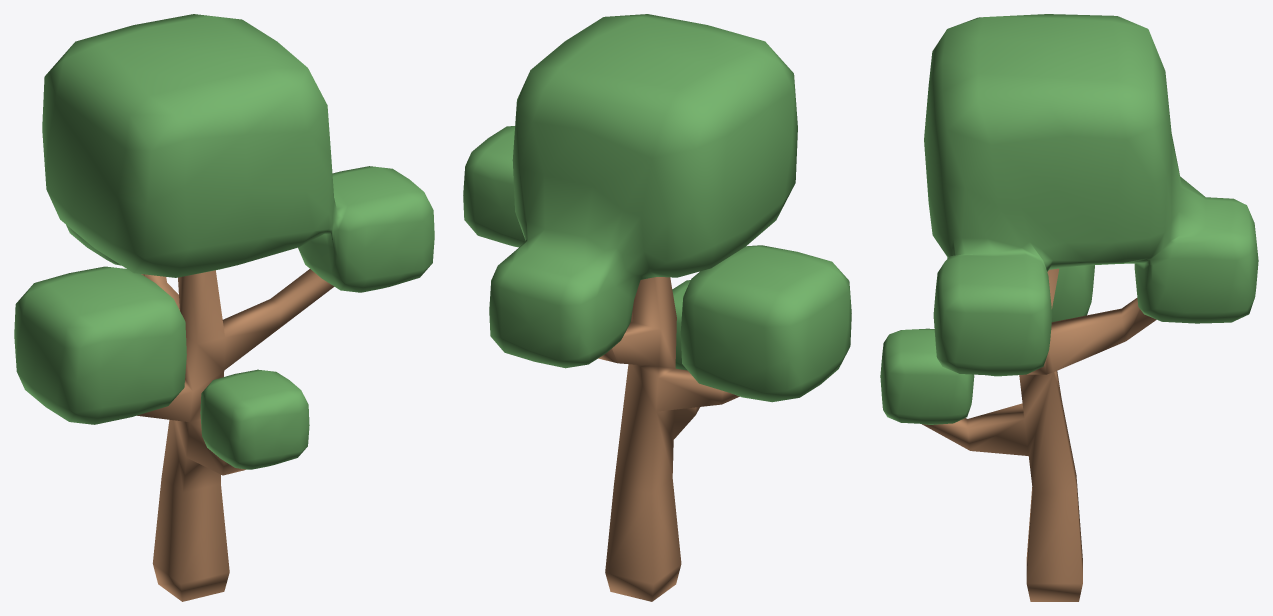
The model's file is cluster-tree.glb.
3 renders of one model, left to right at view 1: azimuth 30°, elevation 25°; view 2: azimuth 150°, elevation 25°; view 3: azimuth 270°, elevation 25°, orthographic.
Parts seen in each view (by area): view 1: leafsGreen, woodBark; view 2: leafsGreen, woodBark; view 3: leafsGreen, woodBark.
Part boxes in pixels (box(x1,y1,x2,y2)): leafsGreen: box(14, 14, 434, 469); woodBark: box(137, 269, 334, 601); leafsGreen: box(463, 14, 851, 402); woodBark: box(598, 277, 739, 601); leafsGreen: box(880, 14, 1258, 424); woodBark: box(922, 268, 1156, 601).
Size of the model in its own units: 0.9498 by 1.34 by 0.8483.
